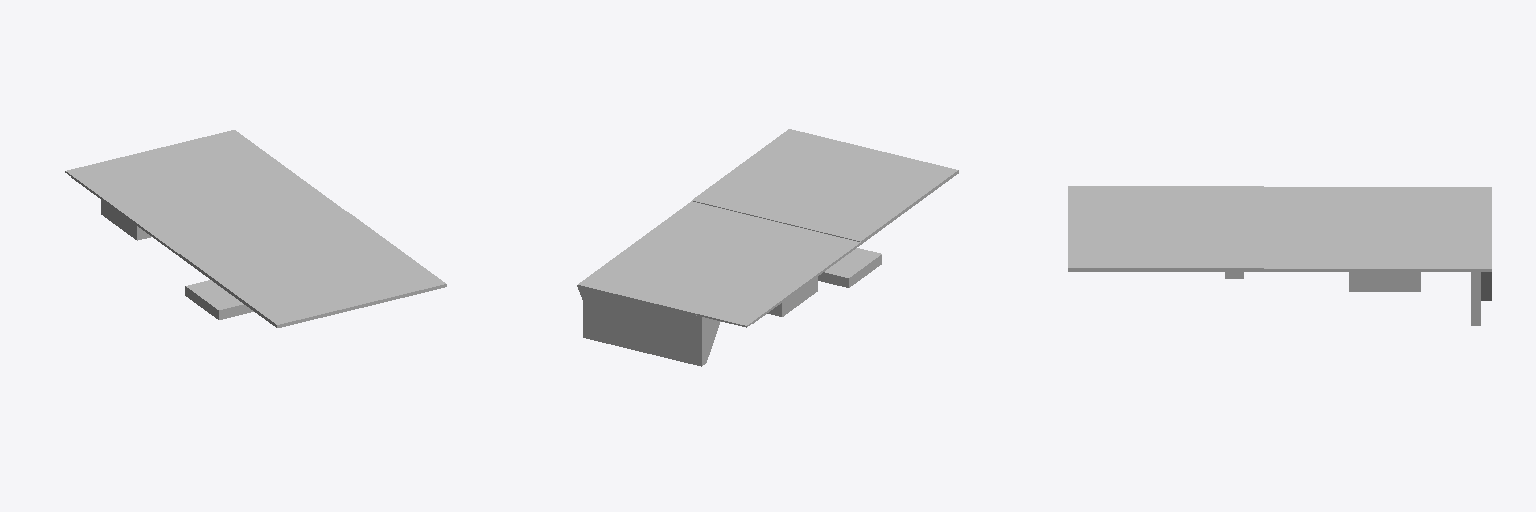
File: test_topo.obj
3 renders of one model, left to right at view 1: azimuth 30°, elevation 25°; view 2: azimuth 150°, elevation 25°; view 3: azimuth 270°, elevation 25°, orthographic.
Visible parts, largest first — view 1: Terrain; view 2: Terrain; view 3: Terrain.
Boxes of the visible parts, x1,y1,x2,y2 form: Terrain: [65, 130, 446, 327]; Terrain: [577, 129, 958, 366]; Terrain: [1068, 186, 1491, 325].
Size of the model in its own units: 42.15 by 13.81 by 91.37.